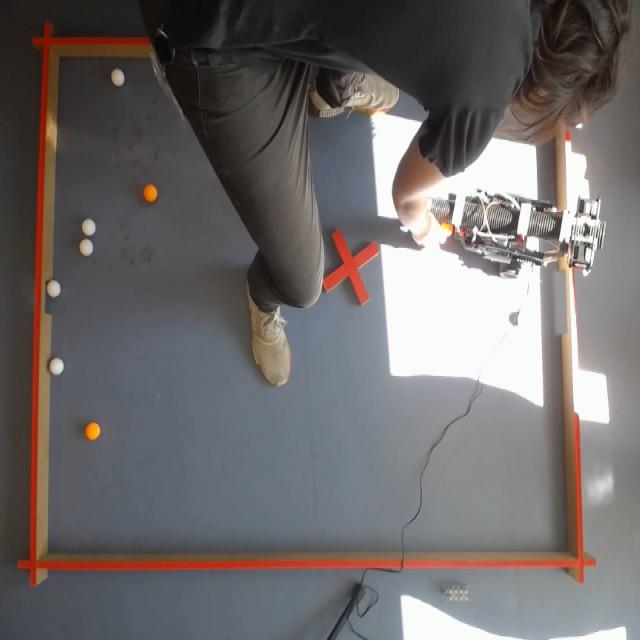orange: (84, 422, 101, 441), (143, 183, 158, 203)
robot: (422, 188, 606, 276)
white: (110, 68, 125, 87), (46, 280, 61, 298), (49, 358, 64, 376), (81, 218, 96, 236), (80, 238, 94, 257)
